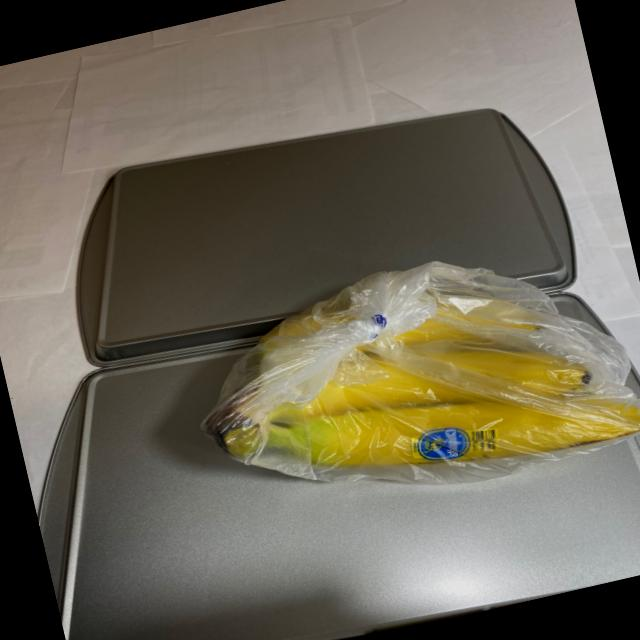banana: (180, 226, 640, 546)
